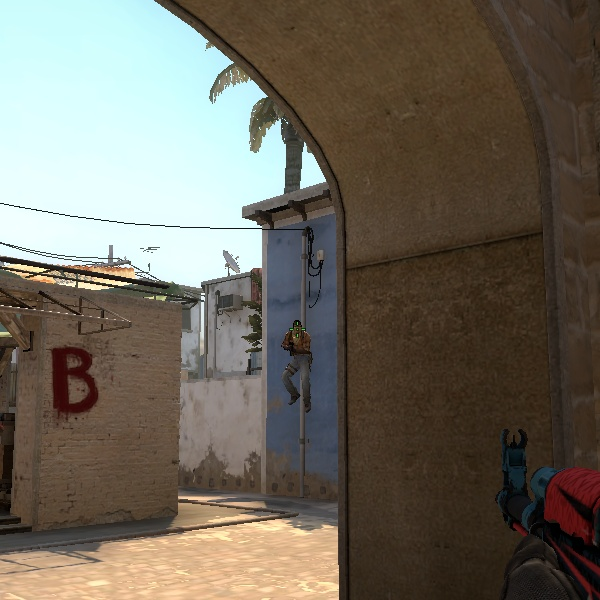t_body: (269, 316, 319, 408)
